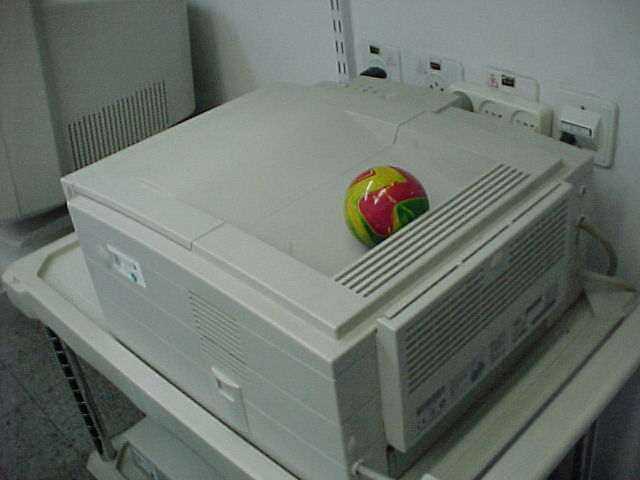WONDERBALL: (341, 163, 438, 254)
